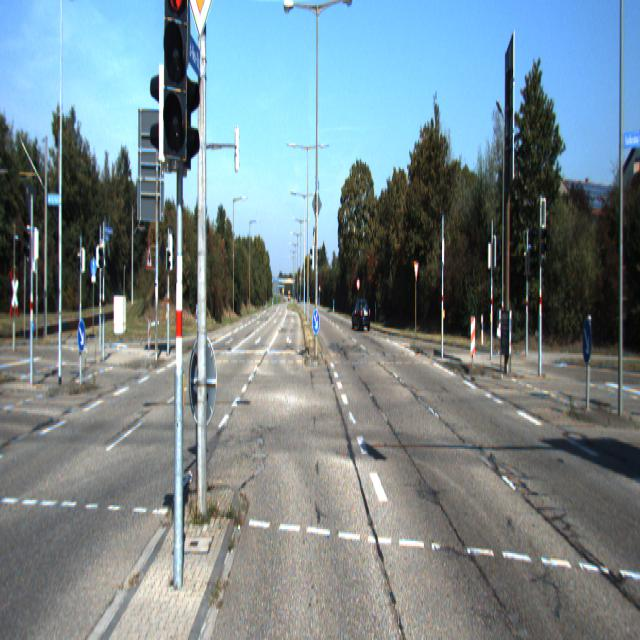Car: (636, 372, 640, 638), (351, 296, 372, 334)
